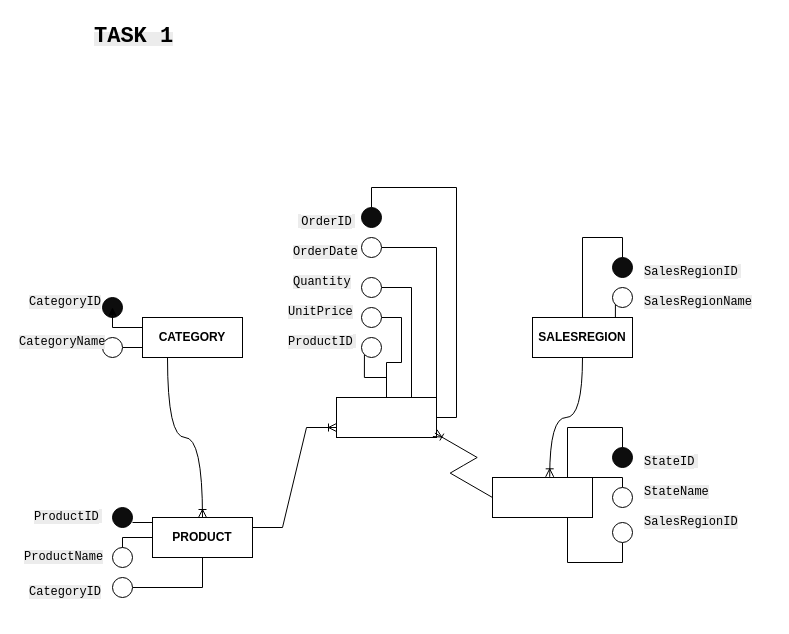
This 789x634 diagram has some shape labels left out. Each missing label, with the centre of its shape:
SALES: the point at 386,417
STATE: the point at 542,497
